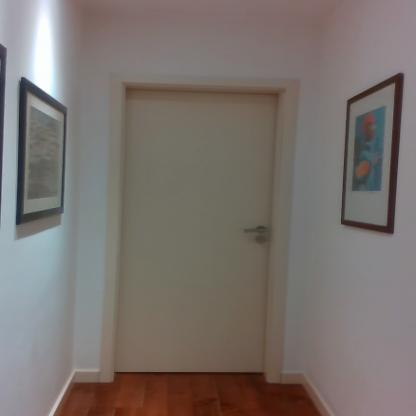door: (126, 88, 272, 372)
lever: (242, 225, 268, 235)
